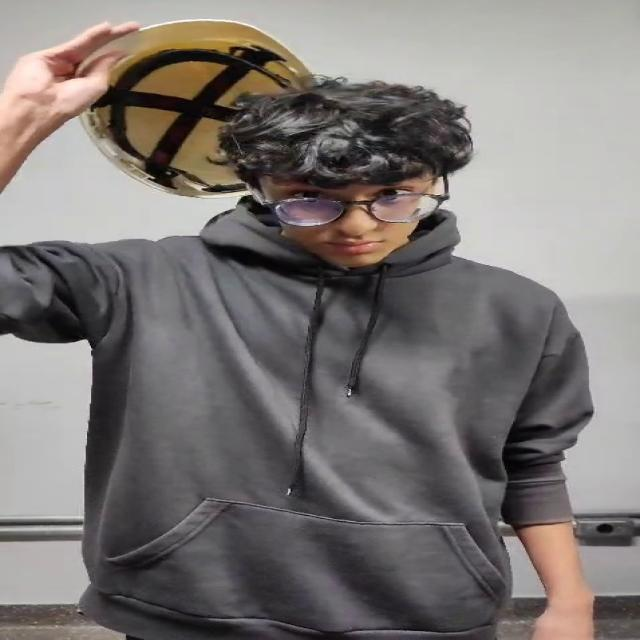sem_capacete: (183, 67, 501, 221)
